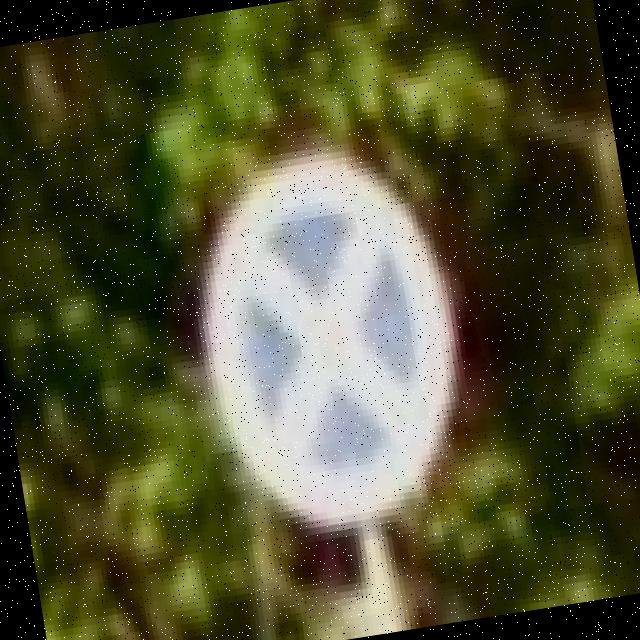Zakaz zatrzymywania sie: (180, 137, 487, 553)
